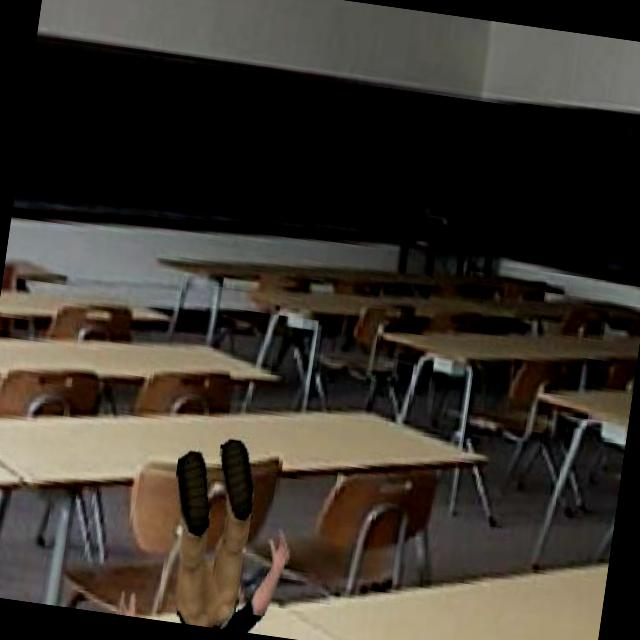Person: (113, 418, 305, 636)
